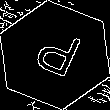P_SW: (26, 24, 84, 86)
